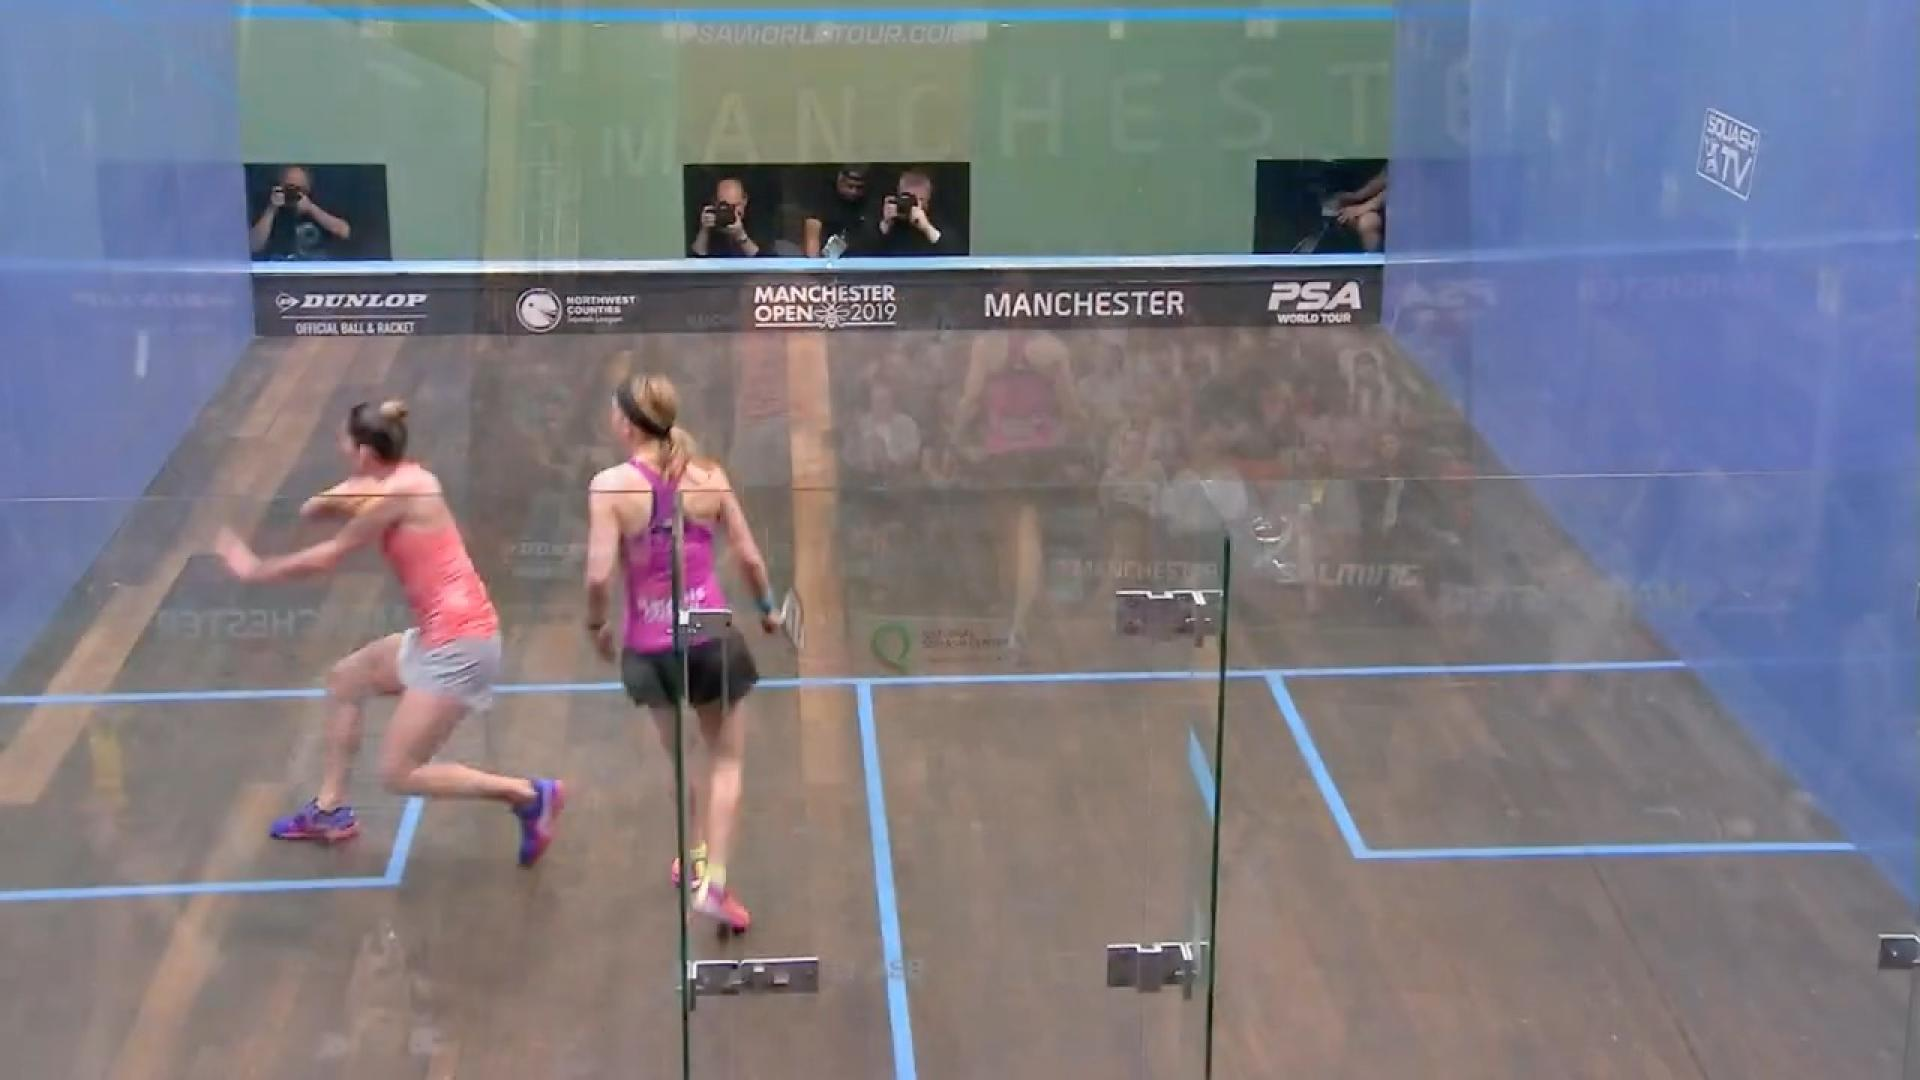Squash-Ball: (125, 320, 165, 390)
